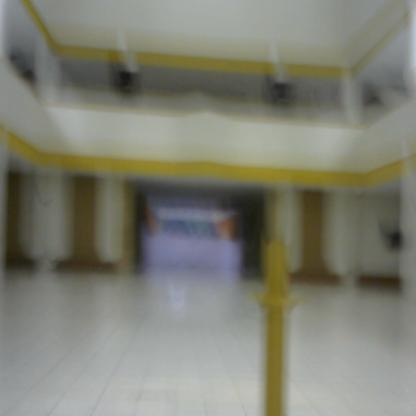pole: (247, 242, 306, 416)
